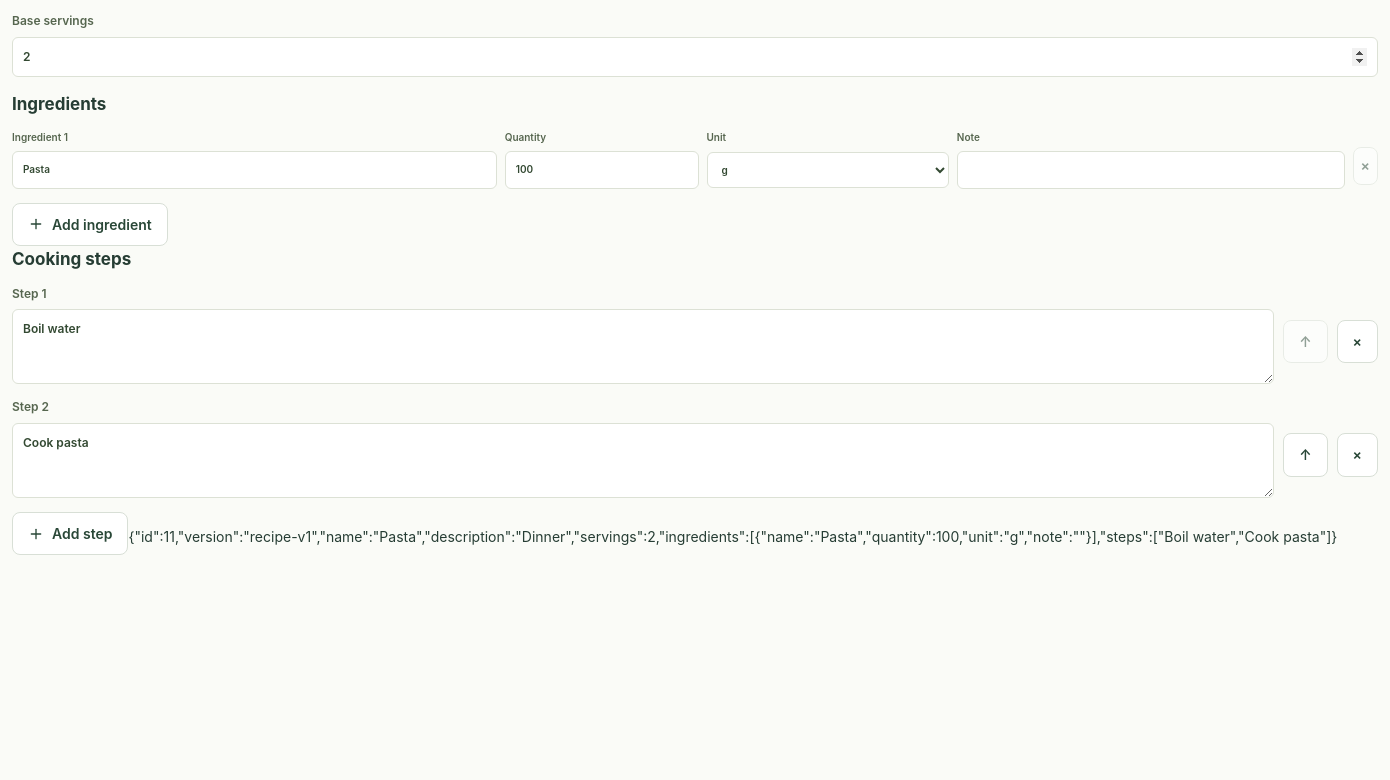
Scenario: recipe and meal field behavior › reorders, edits, adds and removes cooking steps without losing the last row
Expected: the button named "Move step 1 up" is disabled, [1283,320,1328,363]
Click the button named "Move step 2 up": (1305, 455) [1283,433,1328,477]
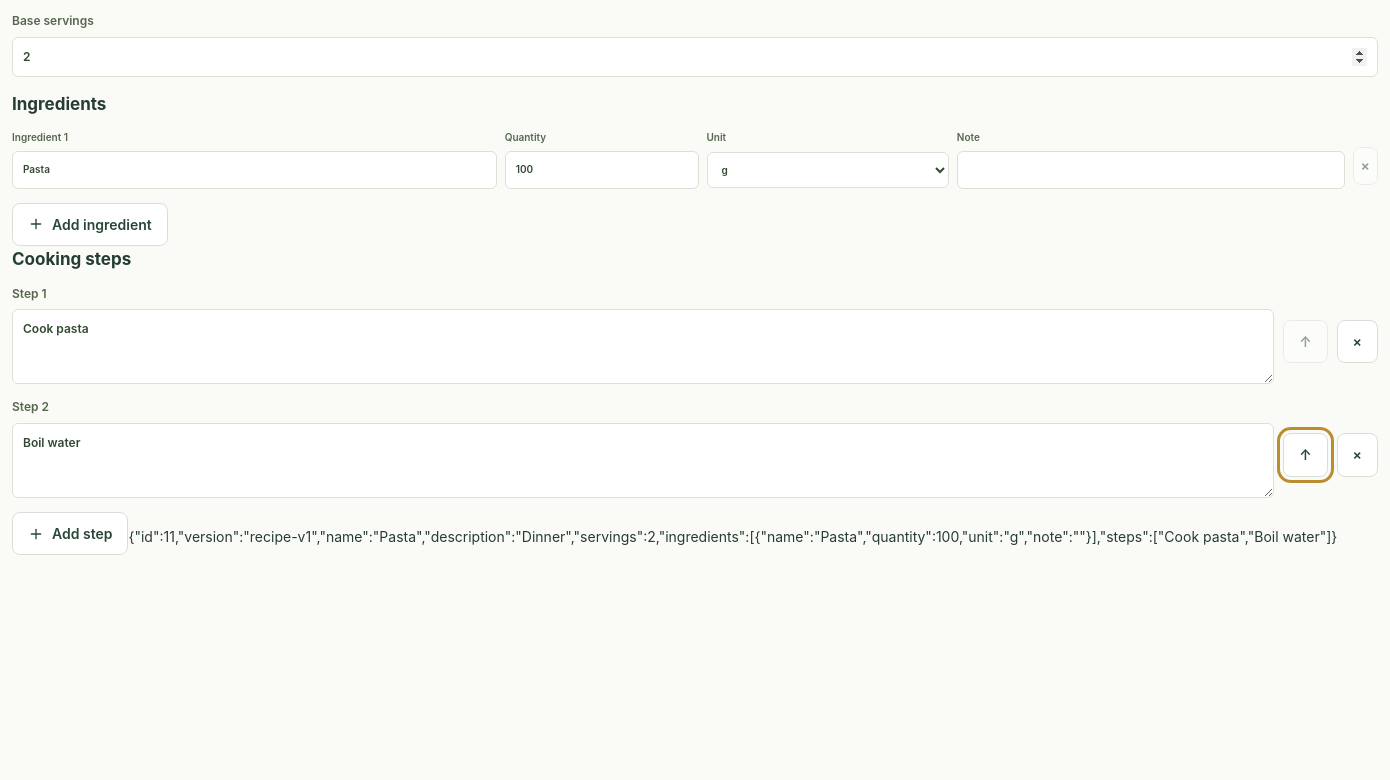
Expected: the text box labelled "Step 1" holds "Cook pasta", [12,309,1274,384]
Expected: the text box labelled "Step 2" holds "Boil water", [12,423,1274,498]
Click the button "Add step": (70, 534) [12,512,128,556]
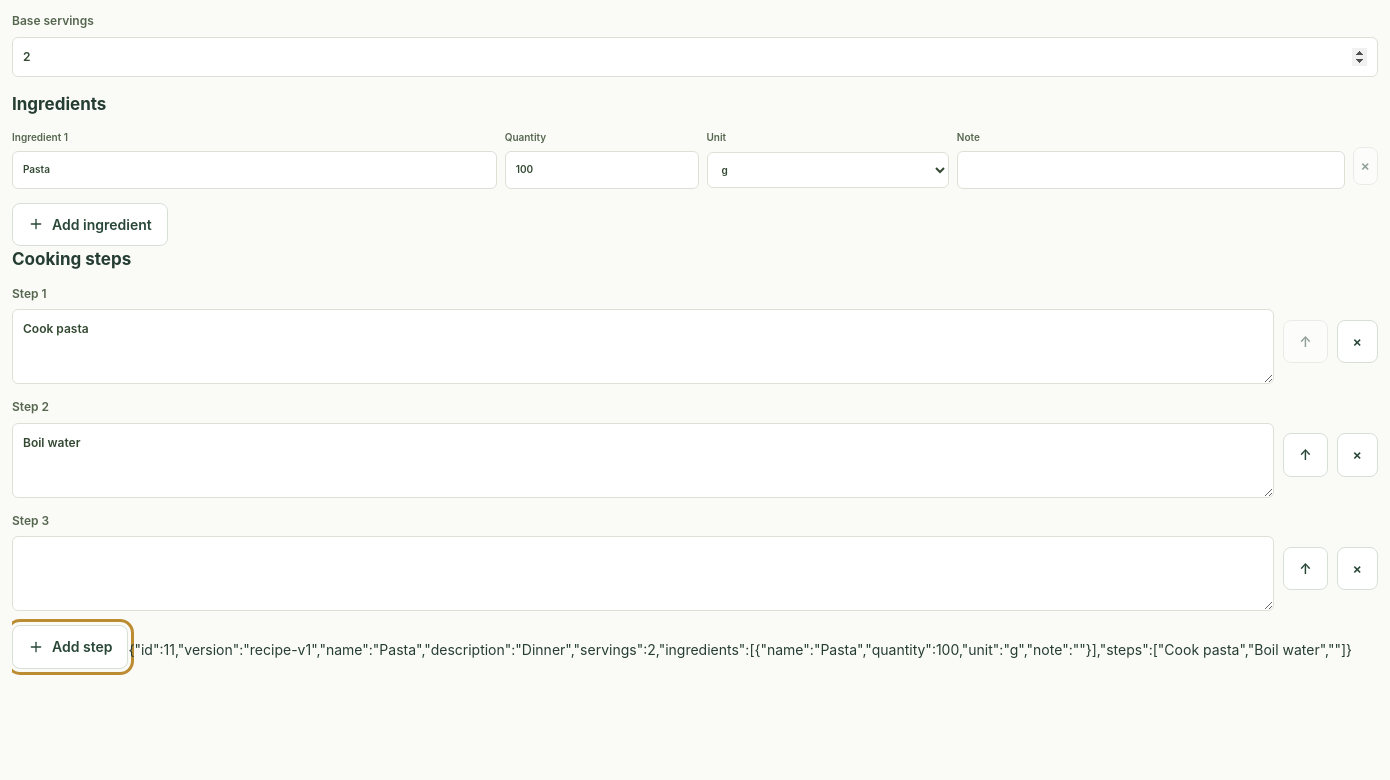
In the text box labelled "Step 3": (643, 574) [12,536,1274,611], type "Serve"
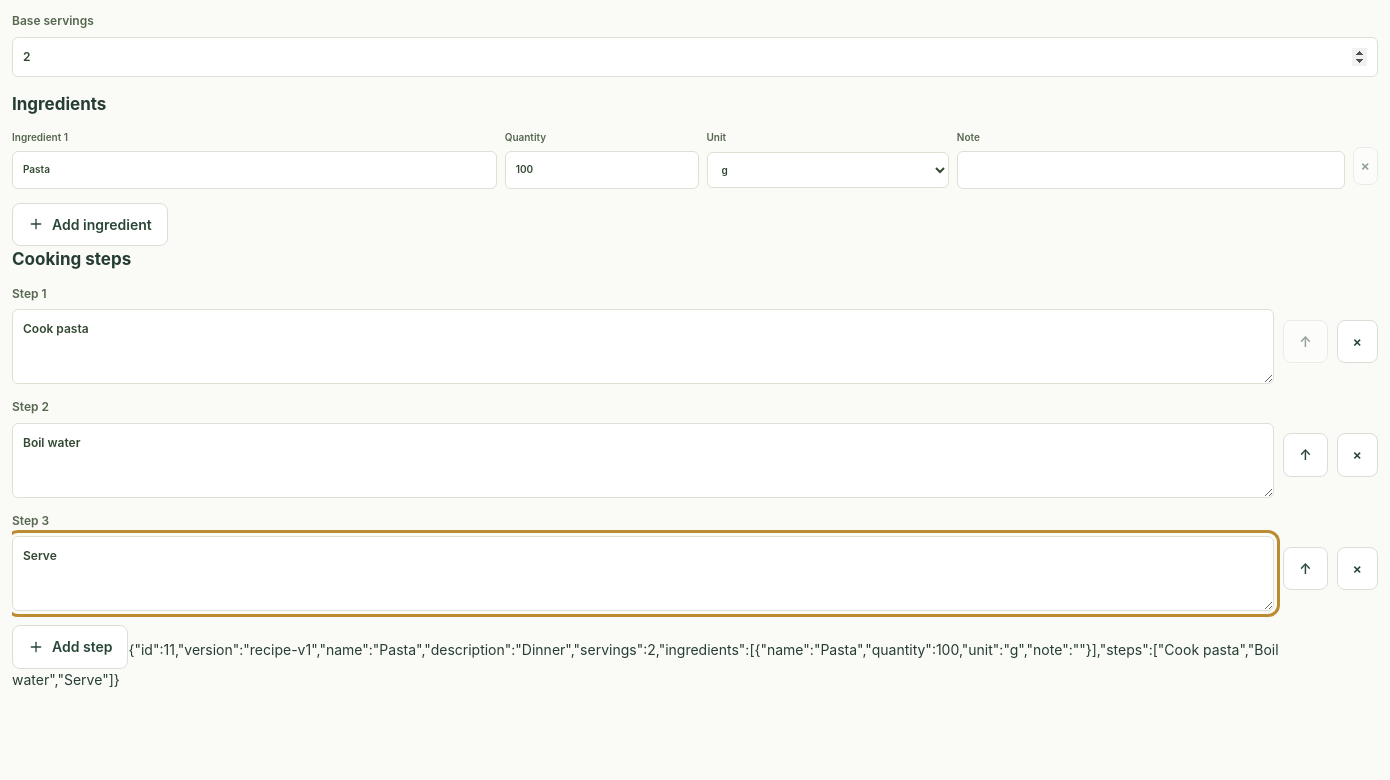
Expected: the text with test id "value" shows "\"steps\":[\"Cook pasta\",\"Boil water\",\"Serve\"]", [12,641,1279,688]
Click the button named "Remove step 3": (1357, 569) [1337,547,1378,590]
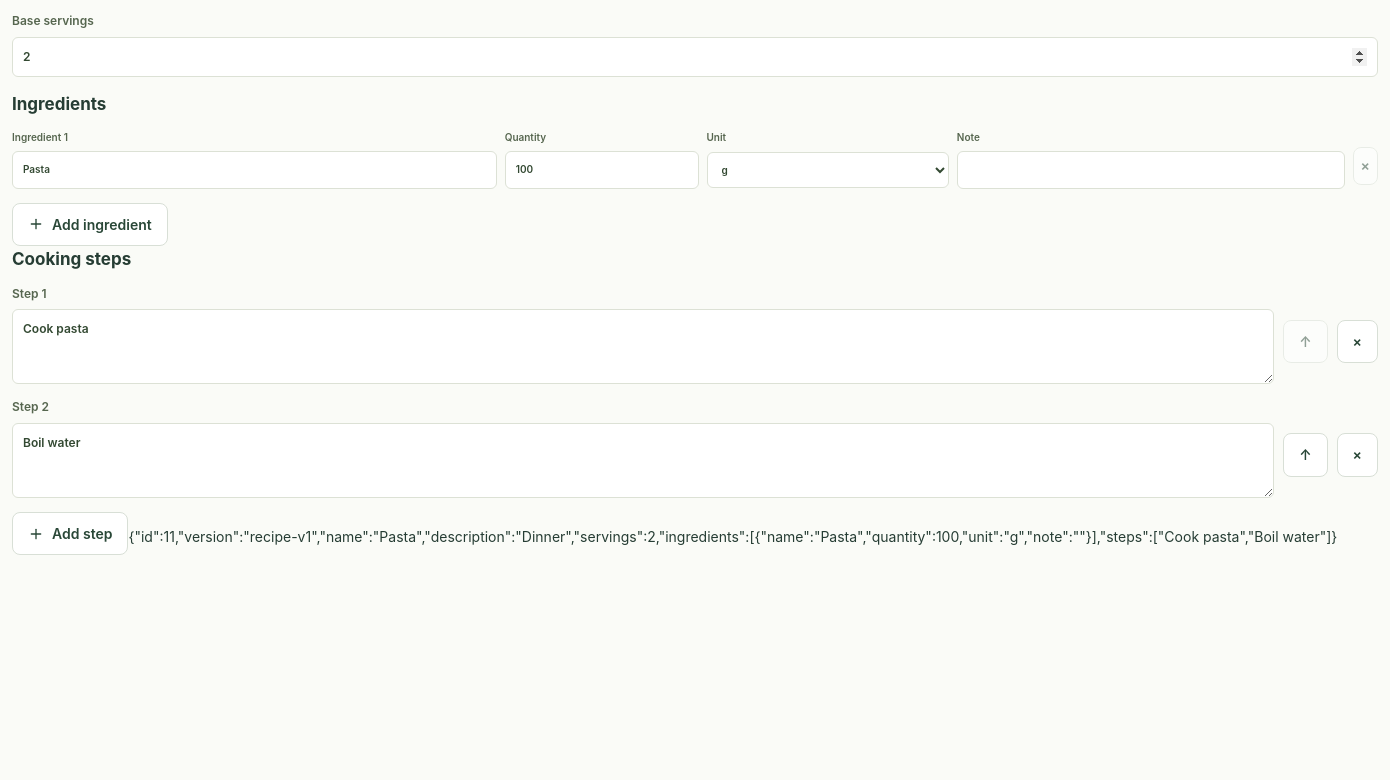
Click the button named "Remove step 2": (1357, 455) [1337,433,1378,477]
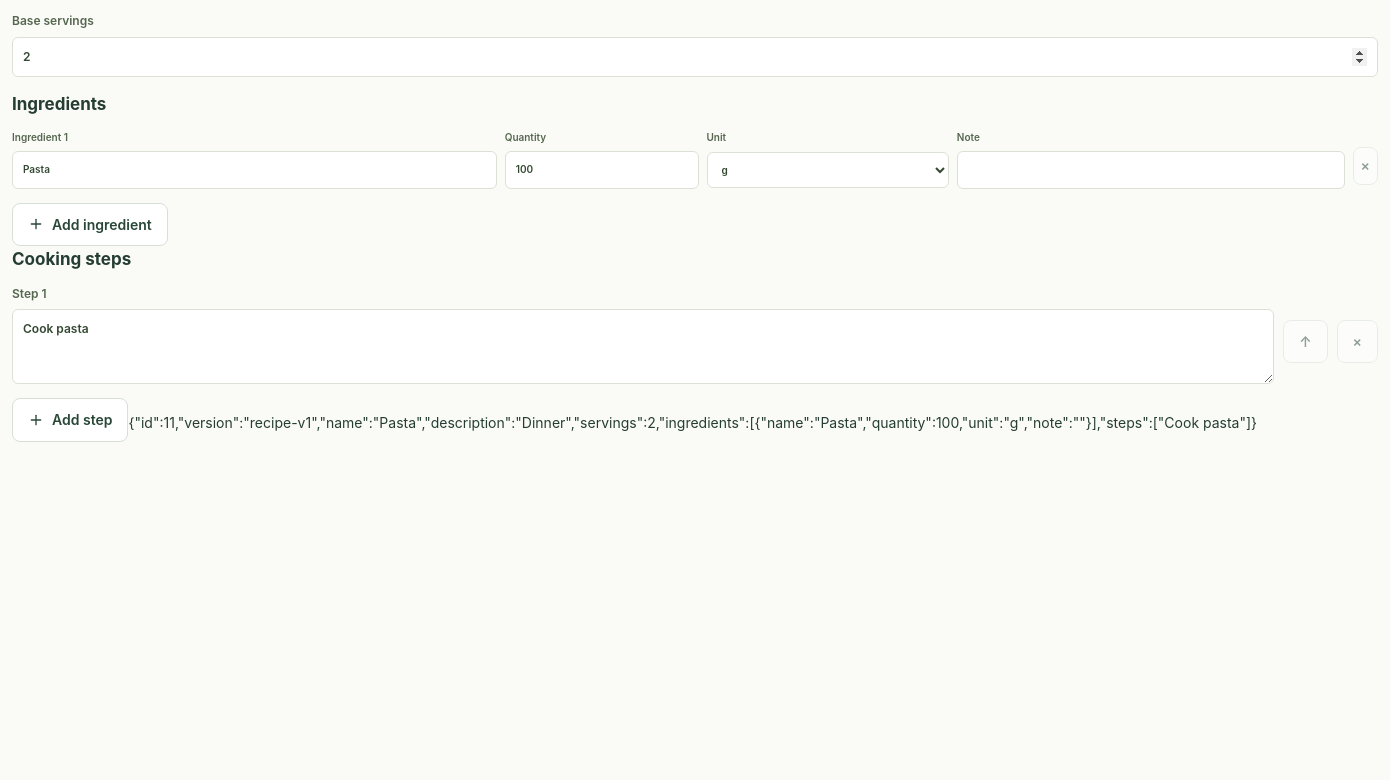
Expected: the button named "Remove step 1" is disabled, [1337,320,1378,363]
